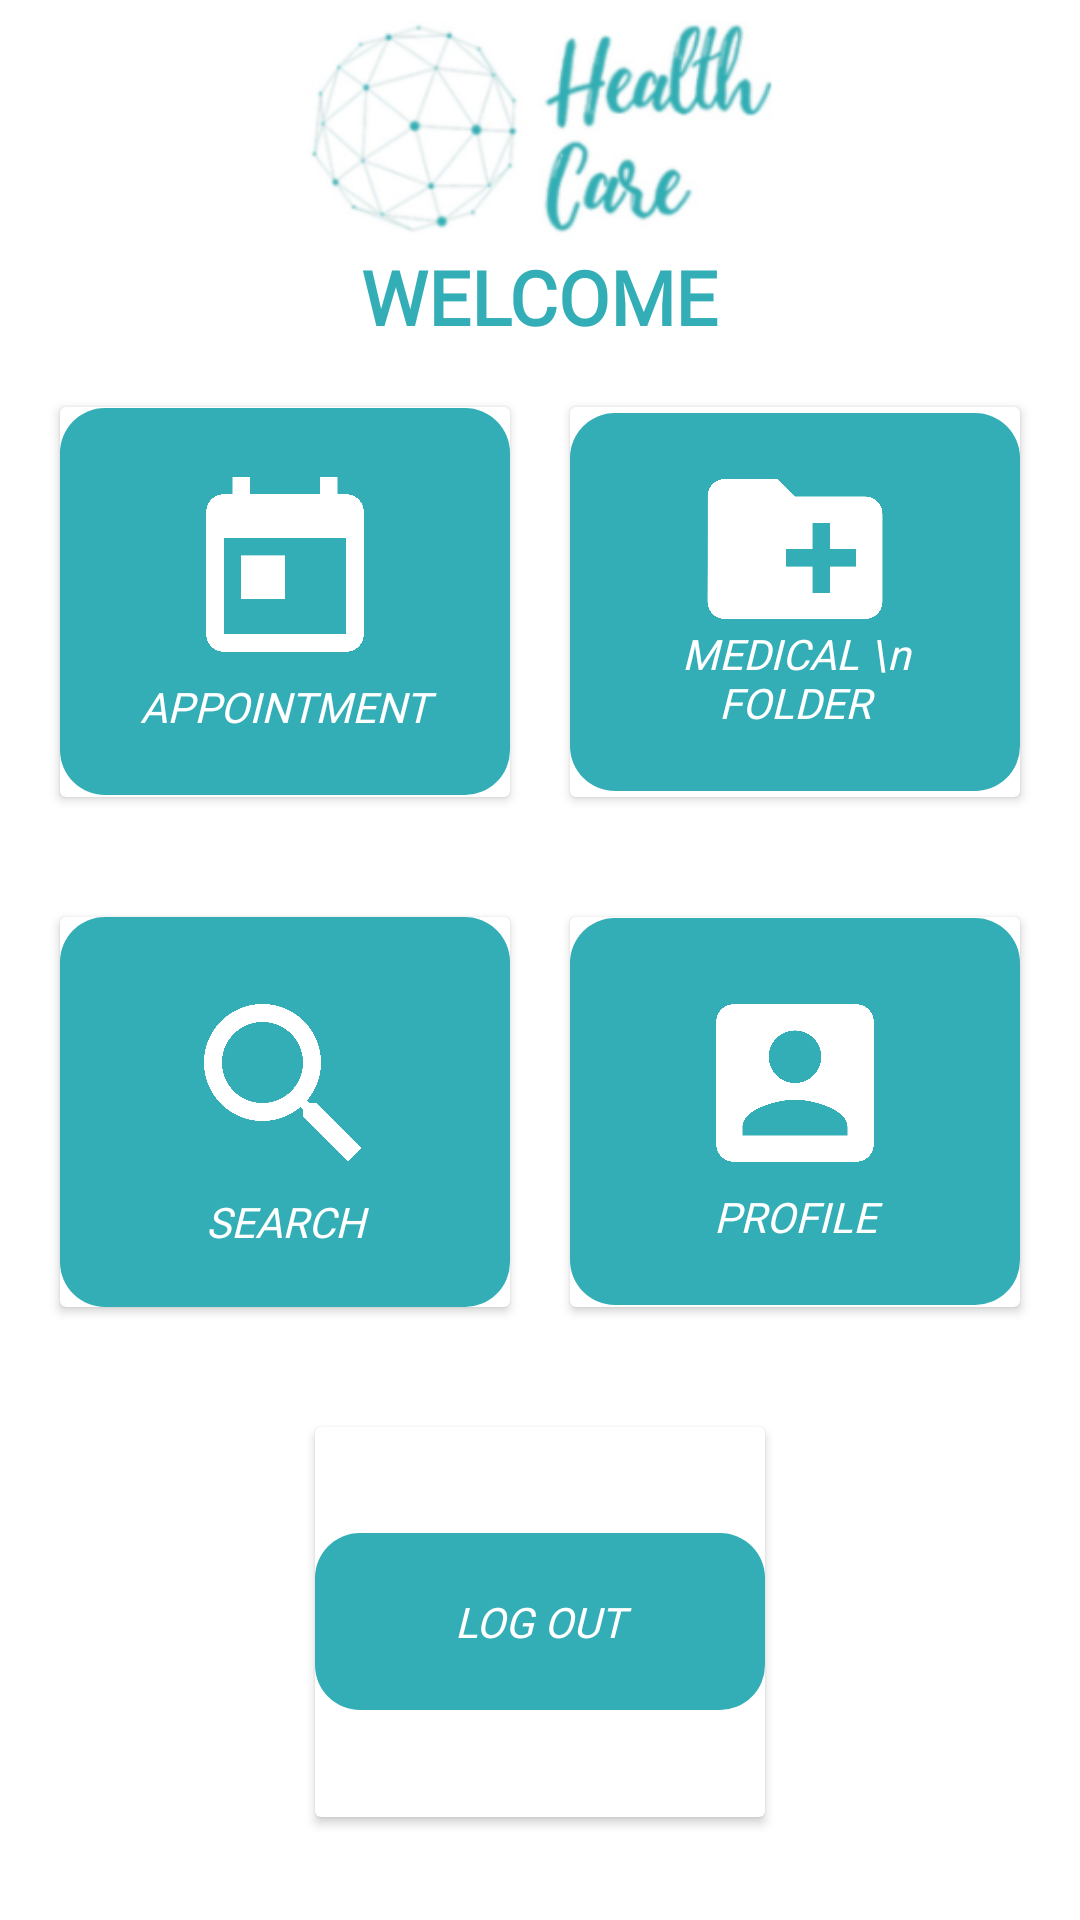

Locate icon controls on the screen. Image size 1080 × 1920, boxes as (x1, y1, x2, y2).
account box: (716, 1004, 874, 1162)
create folder: (707, 479, 883, 619)
today: (206, 477, 364, 652)
